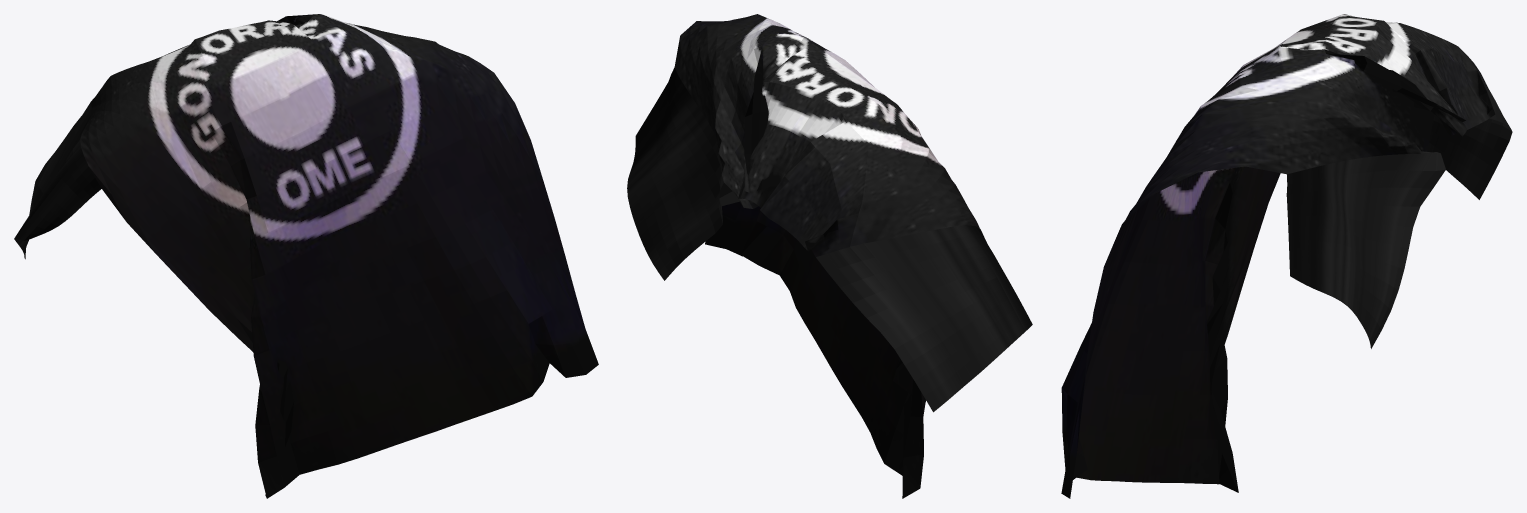
The model's file is ome_gonorreas.glb.
3 views of the same model, side by side, from view 1: azimuth 30°, elevation 25°; view 2: azimuth 150°, elevation 25°; view 3: azimuth 270°, elevation 25° (orthographic). The views are drawn at different scales.
Visible parts, largest first — view 1: ome_gonorreas; view 2: ome_gonorreas; view 3: ome_gonorreas.
Part boxes in pixels (x1=…): ome_gonorreas: x1=14, y1=14, x2=598, y2=498; ome_gonorreas: x1=627, y1=14, x2=1032, y2=498; ome_gonorreas: x1=1061, y1=14, x2=1512, y2=498.
Bounding box in the file's own units: 5.3 × 4.89 × 4.07.
1 material, 1 textured.
